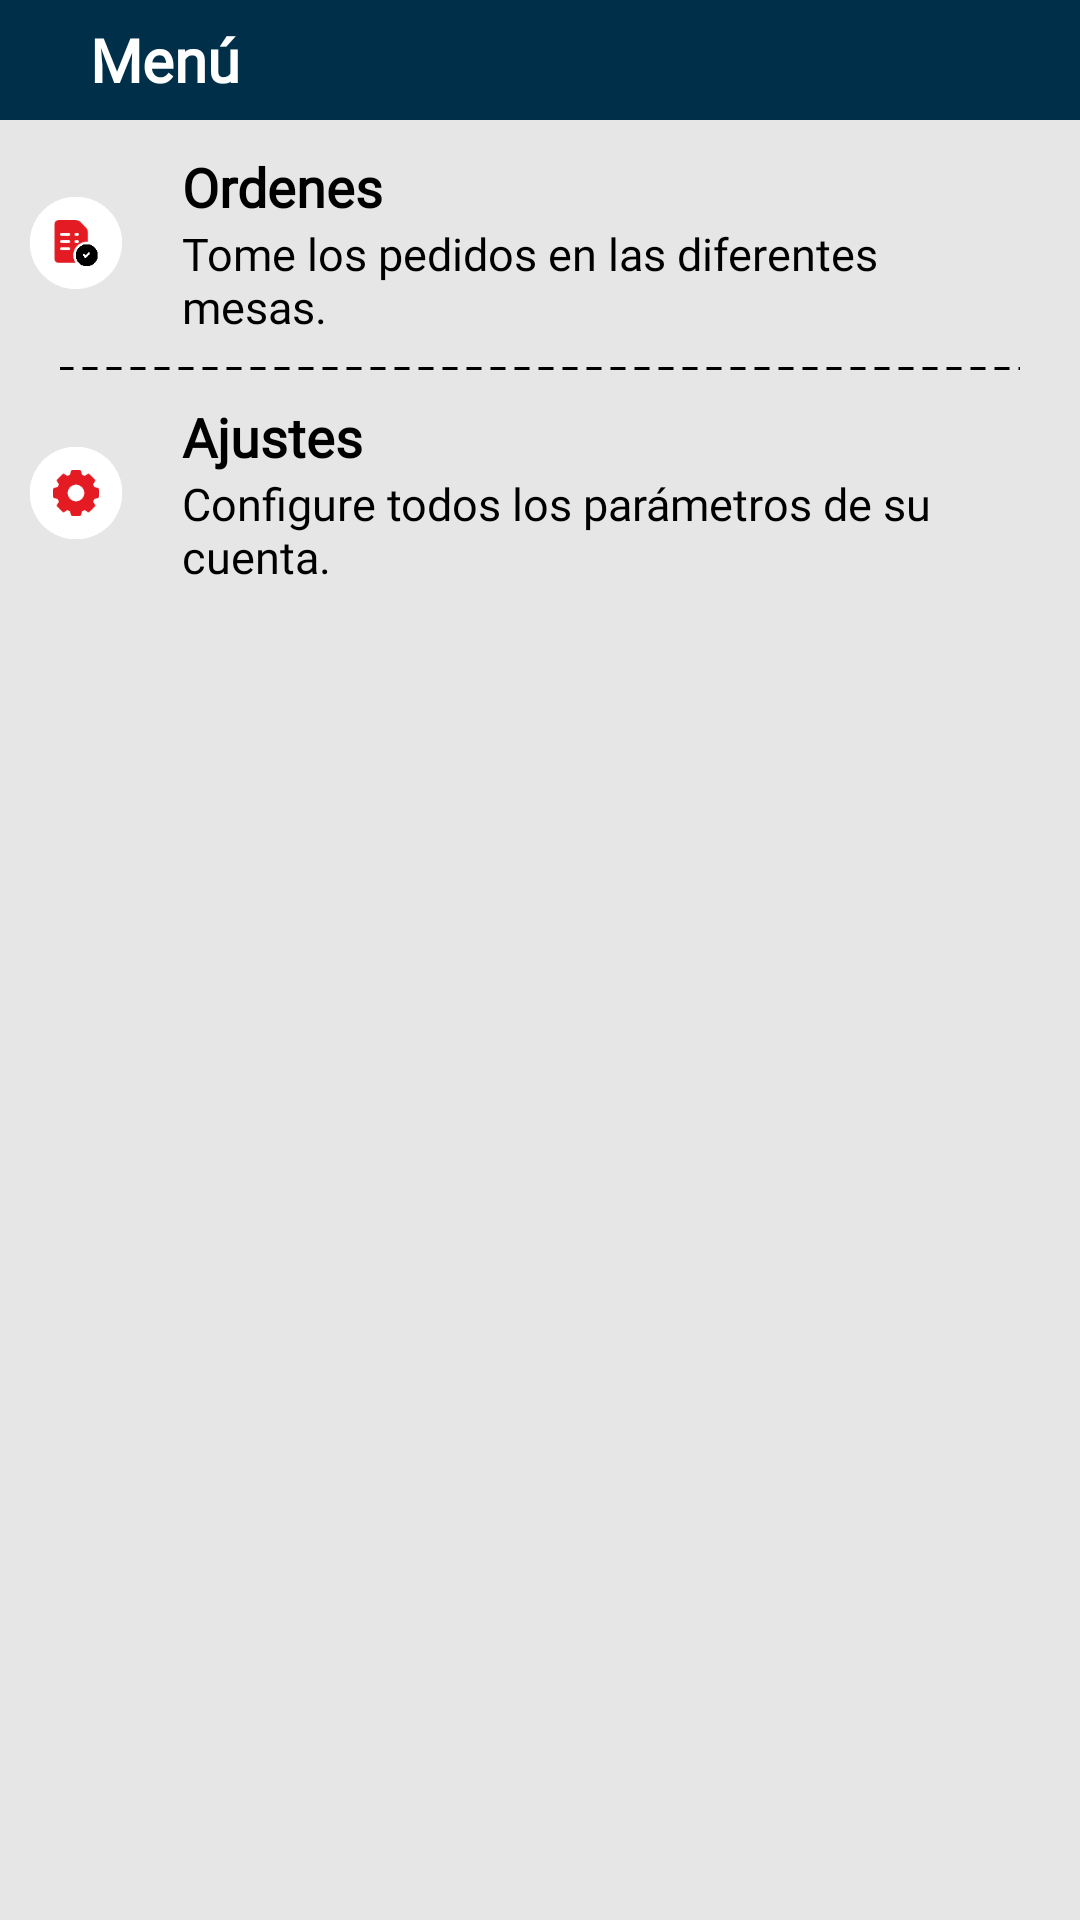

Where icons sit on this 1080×1920 app screen, as (x1, y1, x2, y2):
order: (30, 197, 122, 289)
setting: (30, 447, 122, 539)
